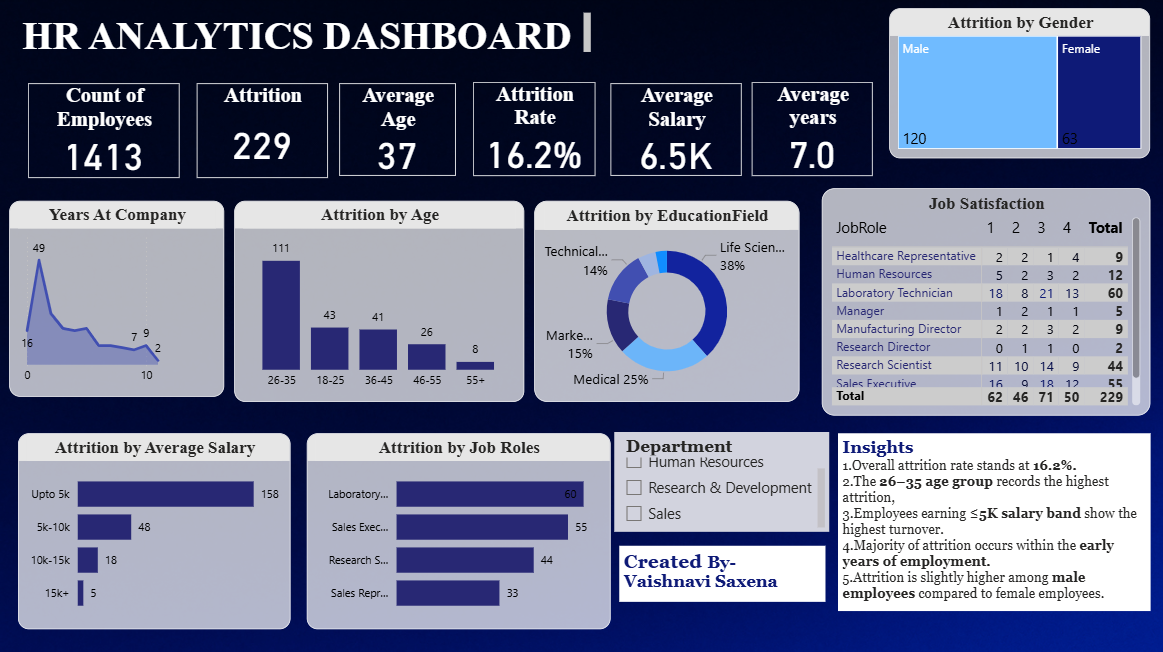

This screenshot's page, from the dashboard's own definition file:
{"tool":"powerbi","page":{"name":"Page 1","canvas":[1280,720],"ordinal":0},"visuals":[{"type":"card","title":"Count of Employees","fields":{"Values":["CountNonNull(HR_Analytics (1).EmpID)"]},"box":[32.9,94.7,166,104.3],"z":0},{"type":"card","title":"Attrition","fields":{"Values":["Sum(HR_Analytics (1).AttritionCount)"]},"box":[218.2,94.7,144.1,104.3],"z":1000},{"type":"card","title":"Average Salary ","fields":{"Values":["Avg(HR_Analytics (1).MonthlyIncome)"]},"box":[672.4,94.7,144.1,101.5],"z":2000},{"type":"card","title":"Average Age ","fields":{"Values":["Avg(HR_Analytics (1).Age)"]},"box":[374.6,94.7,127.6,101.5],"z":3000},{"type":"card","title":"Average years ","fields":{"Values":["Avg(HR_Analytics (1).YearsAtCompany)"]},"box":[827.4,93.3,133.1,102.9],"z":4000},{"type":"card","title":"Attrition Rate","fields":{"Values":["HRAnalytics.AttritionRate"]},"box":[521.4,93.3,134.5,102.9],"z":5000},{"type":"donutChart","title":" Attrition by EducationField","fields":{"Category":["HRAnalytics.EducationField"],"Y":["Sum(HRAnalytics.AttritionCount)"]},"box":[588.7,223.7,290.9,220.9],"z":6000},{"type":"columnChart","title":" Attrition by Age","fields":{"Category":["HRAnalytics.AgeGroup"],"Y":["Sum(HRAnalytics.AttritionCount)"]},"box":[259.3,223.7,318.4,220.9],"z":7000},{"type":"pivotTable","title":"Job Satisfaction","fields":{"Rows":["HRAnalytics.JobRole"],"Columns":["HRAnalytics.JobSatisfaction"],"Values":["Sum(HRAnalytics.AttritionCount)"]},"box":[904.3,209.9,360.9,249.7],"z":8000},{"type":"clusteredBarChart","title":" Attrition by Job Roles","fields":{"Category":["HRAnalytics.JobRole"],"Y":["Sum(HRAnalytics.AttritionCount)"]},"box":[338.9,478.9,333.4,215.4],"z":9000},{"type":"clusteredBarChart","title":" Attrition by Average Salary","fields":{"Category":["HRAnalytics.SalarySlab"],"Y":["Sum(HRAnalytics.AttritionCount)"]},"box":[22,478.9,299.1,215.4],"z":10000},{"type":"areaChart","title":" Years At Company","fields":{"Category":["HRAnalytics.YearsAtCompany"],"Y":["Sum(HRAnalytics.AttritionCount)"]},"box":[12.3,223.7,236,215.4],"z":11000},{"type":"treemap","title":" Attrition by Gender","fields":{"Group":["HRAnalytics.Gender"],"Values":["Sum(HRAnalytics.AttritionCount)"]},"box":[978.4,12.3,286.8,164.7],"z":12000},{"type":"textbox","box":[22,12.3,634,56.3],"z":14000},{"type":"slicer","fields":{"Values":["HRAnalytics.Department"]},"box":[676.5,477.5,236,109.8],"z":14001},{"type":"textbox","box":[682,602.4,226.4,61.7],"z":14002},{"type":"textbox","box":[922.1,478.9,343.1,194.9],"z":14003}]}

Visuals, with their boxes in screenshot pixels (x1, y1, x2, y2), scaled from the page's 1280x720 canvas onto the 1163x652 screenshot:
"Count of Employees" card: [left=30, top=86, right=181, bottom=180]
"Attrition" card: [left=198, top=86, right=329, bottom=180]
"Average Salary " card: [left=611, top=86, right=742, bottom=178]
"Average Age " card: [left=340, top=86, right=456, bottom=178]
"Average years " card: [left=752, top=84, right=873, bottom=178]
"Attrition Rate" card: [left=474, top=84, right=596, bottom=178]
" Attrition by EducationField" donutChart: [left=535, top=203, right=799, bottom=403]
" Attrition by Age" columnChart: [left=236, top=203, right=525, bottom=403]
"Job Satisfaction" pivotTable: [left=822, top=190, right=1150, bottom=416]
" Attrition by Job Roles" clusteredBarChart: [left=308, top=434, right=611, bottom=629]
" Attrition by Average Salary" clusteredBarChart: [left=20, top=434, right=292, bottom=629]
" Years At Company" areaChart: [left=11, top=203, right=226, bottom=398]
" Attrition by Gender" treemap: [left=889, top=11, right=1150, bottom=160]
textbox: [left=20, top=11, right=596, bottom=62]
slicer - HRAnalytics.Department: [left=615, top=432, right=829, bottom=532]
textbox: [left=620, top=546, right=825, bottom=601]
textbox: [left=838, top=434, right=1150, bottom=610]
